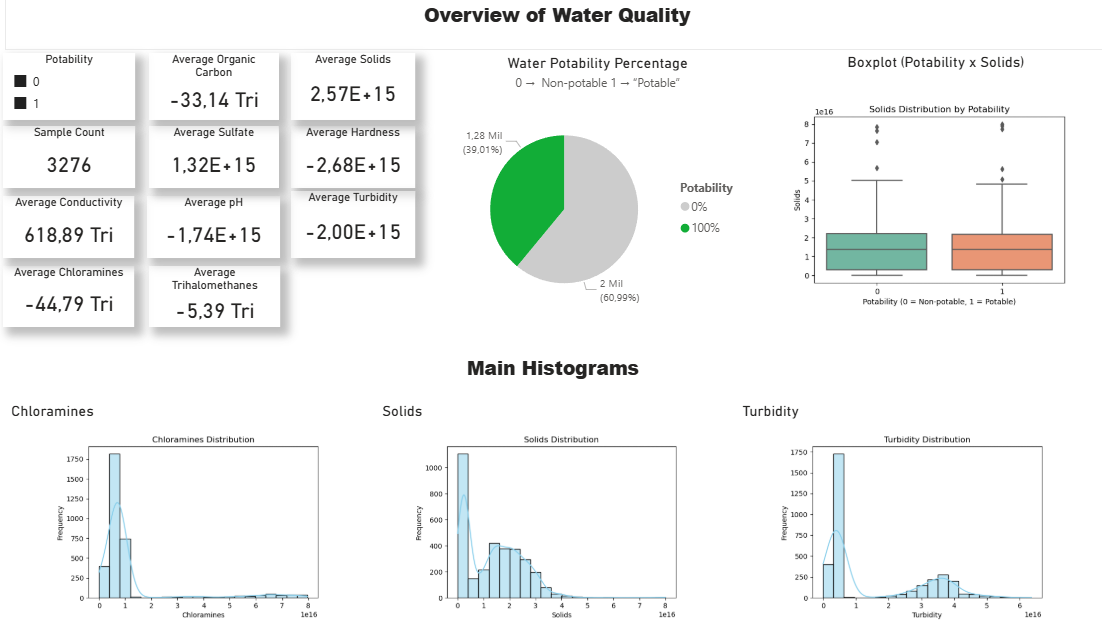

This screenshot's page, from the dashboard's own definition file:
{"tool":"powerbi","page":{"name":"Overview of Water Quality","canvas":[1280,720],"ordinal":0},"visuals":[{"type":"slicer","title":"Potability","fields":{"Values":["water_potability.Potability"]},"box":[8.5,62.8,152.1,76.6],"z":0},{"type":"card","title":"Sample Count","fields":{"Values":["CountNonNull(water_potability.Chloramines)"]},"box":[8.5,146.8,152.1,71.3],"z":1000},{"type":"pieChart","title":"Water Potability Percentage","fields":{"Category":["water_potability.Potability"],"Y":["CountNonNull(water_potability.Potability)"]},"box":[514.9,63.8,353.2,316],"z":2000},{"type":"card","title":"Average Chloramines","fields":{"Values":["Avg(water_potability.Chloramines)"]},"box":[8.5,308.5,151.1,70.2],"z":3000},{"type":"card","title":"Average Conductivity","fields":{"Values":["Avg(water_potability.Conductivity)"]},"box":[8.5,227.7,151.1,71.3],"z":4000},{"type":"card","title":"Average Hardness","fields":{"Values":["Avg(water_potability.Hardness)"]},"box":[339.4,146.8,142.6,71.3],"z":5000},{"type":"card","title":"Average Organic Carbon","fields":{"Values":["Avg(water_potability.Organic_carbon)"]},"box":[175.5,62.8,148.9,76.6],"z":6000},{"type":"card","title":"Average pH","fields":{"Values":["Avg(water_potability.ph)"]},"box":[173.4,227.7,153.2,71.3],"z":7000},{"type":"card","title":"Average Solids","fields":{"Values":["Avg(water_potability.Solids)"]},"box":[339.4,62.8,142.6,76.6],"z":8000},{"type":"card","title":"Average Sulfate","fields":{"Values":["Avg(water_potability.Sulfate)"]},"box":[175.5,146.8,148.9,71.3],"z":9000},{"type":"card","title":"Average Trihalomethanes","fields":{"Values":["Avg(water_potability.Trihalomethanes)"]},"box":[175.5,308.5,151.1,70.2],"z":10000},{"type":"card","title":"Average Turbidity","fields":{"Values":["Avg(water_potability.Turbidity)"]},"box":[339.4,222.3,142.6,76.6],"z":11000},{"type":"pythonVisual","title":"Boxplot (Potability x Solids)","fields":{"Values":["water_potability.Potability","water_potability.Solids"]},"box":[889.4,62.8,380.9,316],"z":12000},{"type":"pythonVisual","fields":{"Values":["water_potability.Chloramines"]},"box":[12.8,464.9,442.6,255.3],"z":13000},{"type":"textbox","box":[10.6,0,1269.1,59.6],"z":14000},{"type":"pythonVisual","fields":{"Values":["water_potability.Solids"]},"box":[439.4,464.9,413.8,255.3],"z":15000},{"type":"textbox","box":[0,405.3,1279.8,59.6],"z":16000},{"type":"pythonVisual","fields":{"Values":["water_potability.Turbidity"]},"box":[853.2,464.9,426.6,255.3],"z":17000}]}

Visuals, with their boxes in screenshot pixels (x1, y1, x2, y2), scaled from the page's 1280x720 canvas onto the 1102x622 screenshot:
"Potability" slicer: [7,54,138,120]
"Sample Count" card: [7,127,138,188]
"Water Potability Percentage" pieChart: [443,55,747,328]
"Average Chloramines" card: [7,267,137,327]
"Average Conductivity" card: [7,197,137,258]
"Average Hardness" card: [292,127,415,188]
"Average Organic Carbon" card: [151,54,279,120]
"Average pH" card: [149,197,281,258]
"Average Solids" card: [292,54,415,120]
"Average Sulfate" card: [151,127,279,188]
"Average Trihalomethanes" card: [151,267,281,327]
"Average Turbidity" card: [292,192,415,258]
"Boxplot (Potability x Solids)" pythonVisual: [766,54,1094,327]
pythonVisual - water_potability.Chloramines: [11,402,392,621]
textbox: [9,0,1101,51]
pythonVisual - water_potability.Solids: [378,402,735,621]
textbox: [0,350,1101,402]
pythonVisual - water_potability.Turbidity: [735,402,1101,621]
